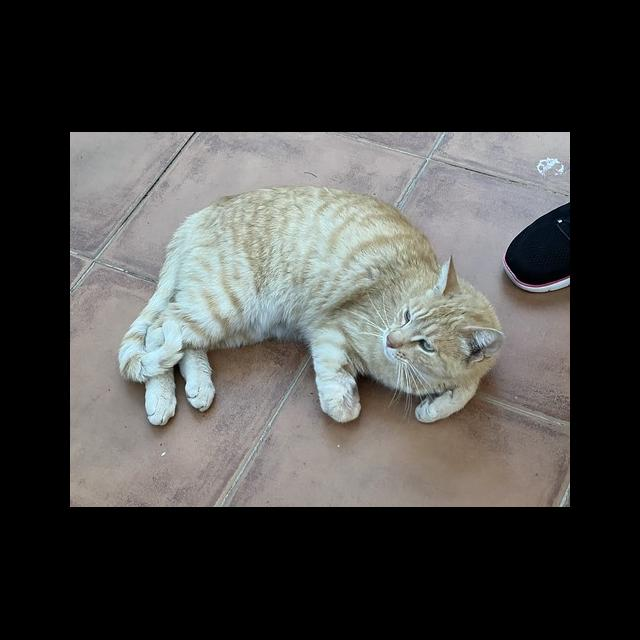animals: (119, 186, 505, 427)
